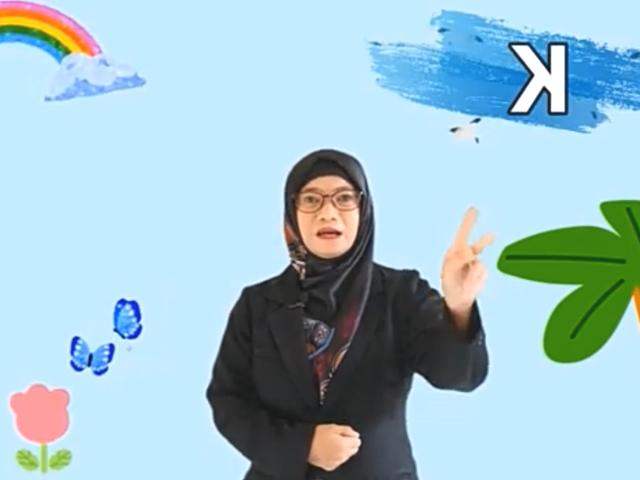K: (440, 207, 496, 311)
